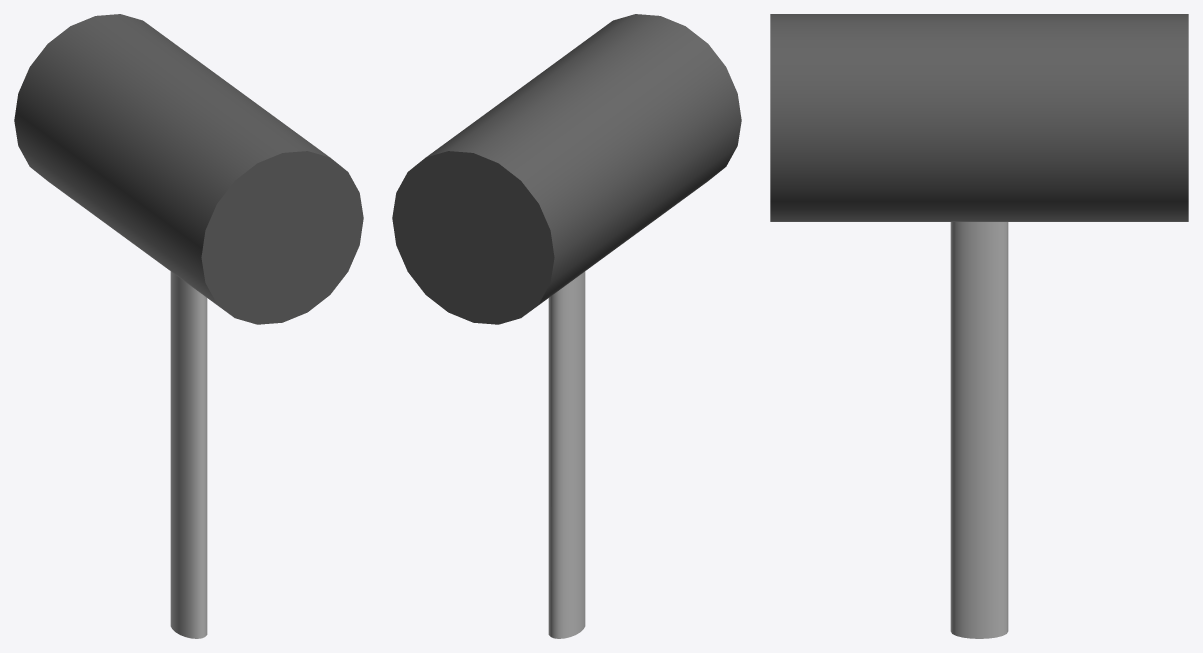
File: hammer.fbx
3 views of the same model, side by side, from view 1: azimuth 30°, elevation 25°; view 2: azimuth 150°, elevation 25°; view 3: azimuth 270°, elevation 25° (orthographic). The views are drawn at different scales.
Visible parts, largest first — view 1: hammer; view 2: hammer; view 3: hammer.
Part boxes in pixels (<box>): hammer: <box>14,14,363,638</box>; hammer: <box>392,14,741,638</box>; hammer: <box>770,14,1188,638</box>.
Size of the model in its own units: 114 by 364 by 227.
